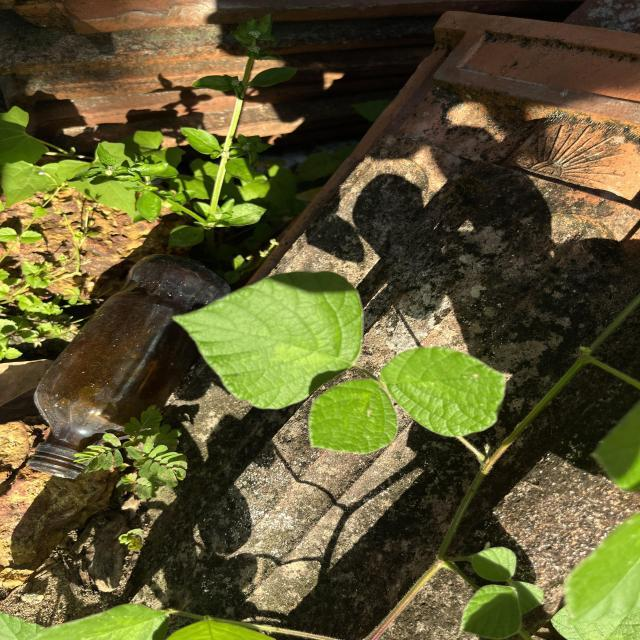Pseudarthria viscida: (170, 270, 514, 456)
